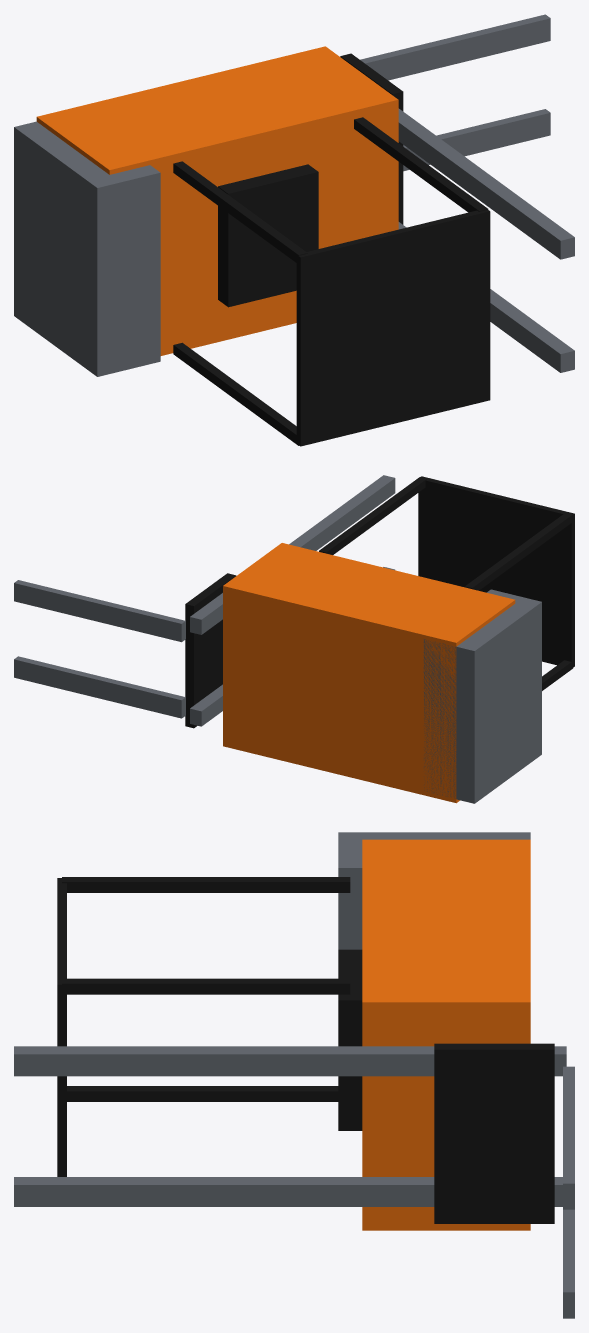
File: forklift.obj
The picture shows the model from 3 angles, top to bottom: view 1: azimuth 30°, elevation 25°; view 2: azimuth 150°, elevation 25°; view 3: azimuth 270°, elevation 25°; orthographic projection. The views are drawn at different scales.
Visible parts, largest first — view 1: black, orange, crate_grey; view 2: orange, crate_grey, black; view 3: orange, black, crate_grey.
Part boxes in pixels (x1,y1,x2,y2): black: [173, 53, 490, 446]; orange: [36, 46, 398, 355]; crate_grey: [14, 14, 574, 376]; orange: [223, 543, 515, 803]; crate_grey: [14, 475, 541, 803]; black: [185, 476, 574, 728]; orange: [362, 839, 530, 1230]; black: [57, 877, 554, 1223]; crate_grey: [14, 832, 574, 1318].
Size of the model in its own units: 3.05 by 1.05 by 2.33.
